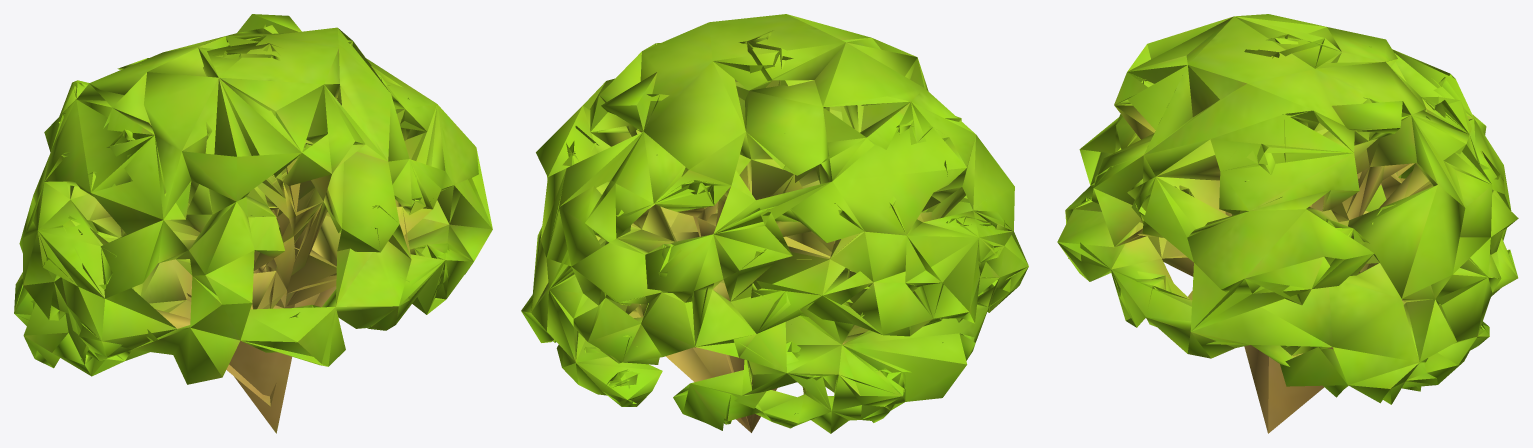
File: oak_tree.glb
3 views of the same model, side by side, from view 1: azimuth 30°, elevation 25°; view 2: azimuth 150°, elevation 25°; view 3: azimuth 270°, elevation 25° (orthographic). The views are drawn at different scales.
Parts seen in each view (by area): view 1: model; view 2: model; view 3: model.
Part boxes in pixels (box(x1,y1,x2,y2)): model: box(14, 14, 492, 433); model: box(521, 14, 1028, 433); model: box(1057, 14, 1518, 433).
Size of the model in its own units: 1.84 by 1.6 by 1.76.
Materials: 1 (1 with a texture image).
